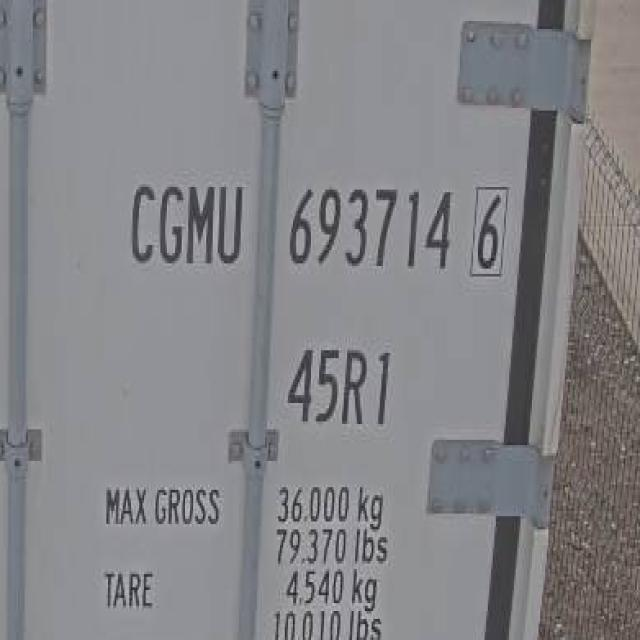dv: (465, 179, 512, 290)
owner: (122, 170, 248, 269)
serial: (283, 168, 455, 278)
size: (286, 331, 397, 435)
